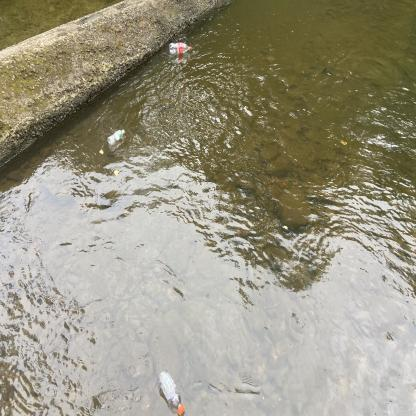trash: (156, 368, 186, 416), (106, 128, 126, 147), (168, 41, 192, 55)
